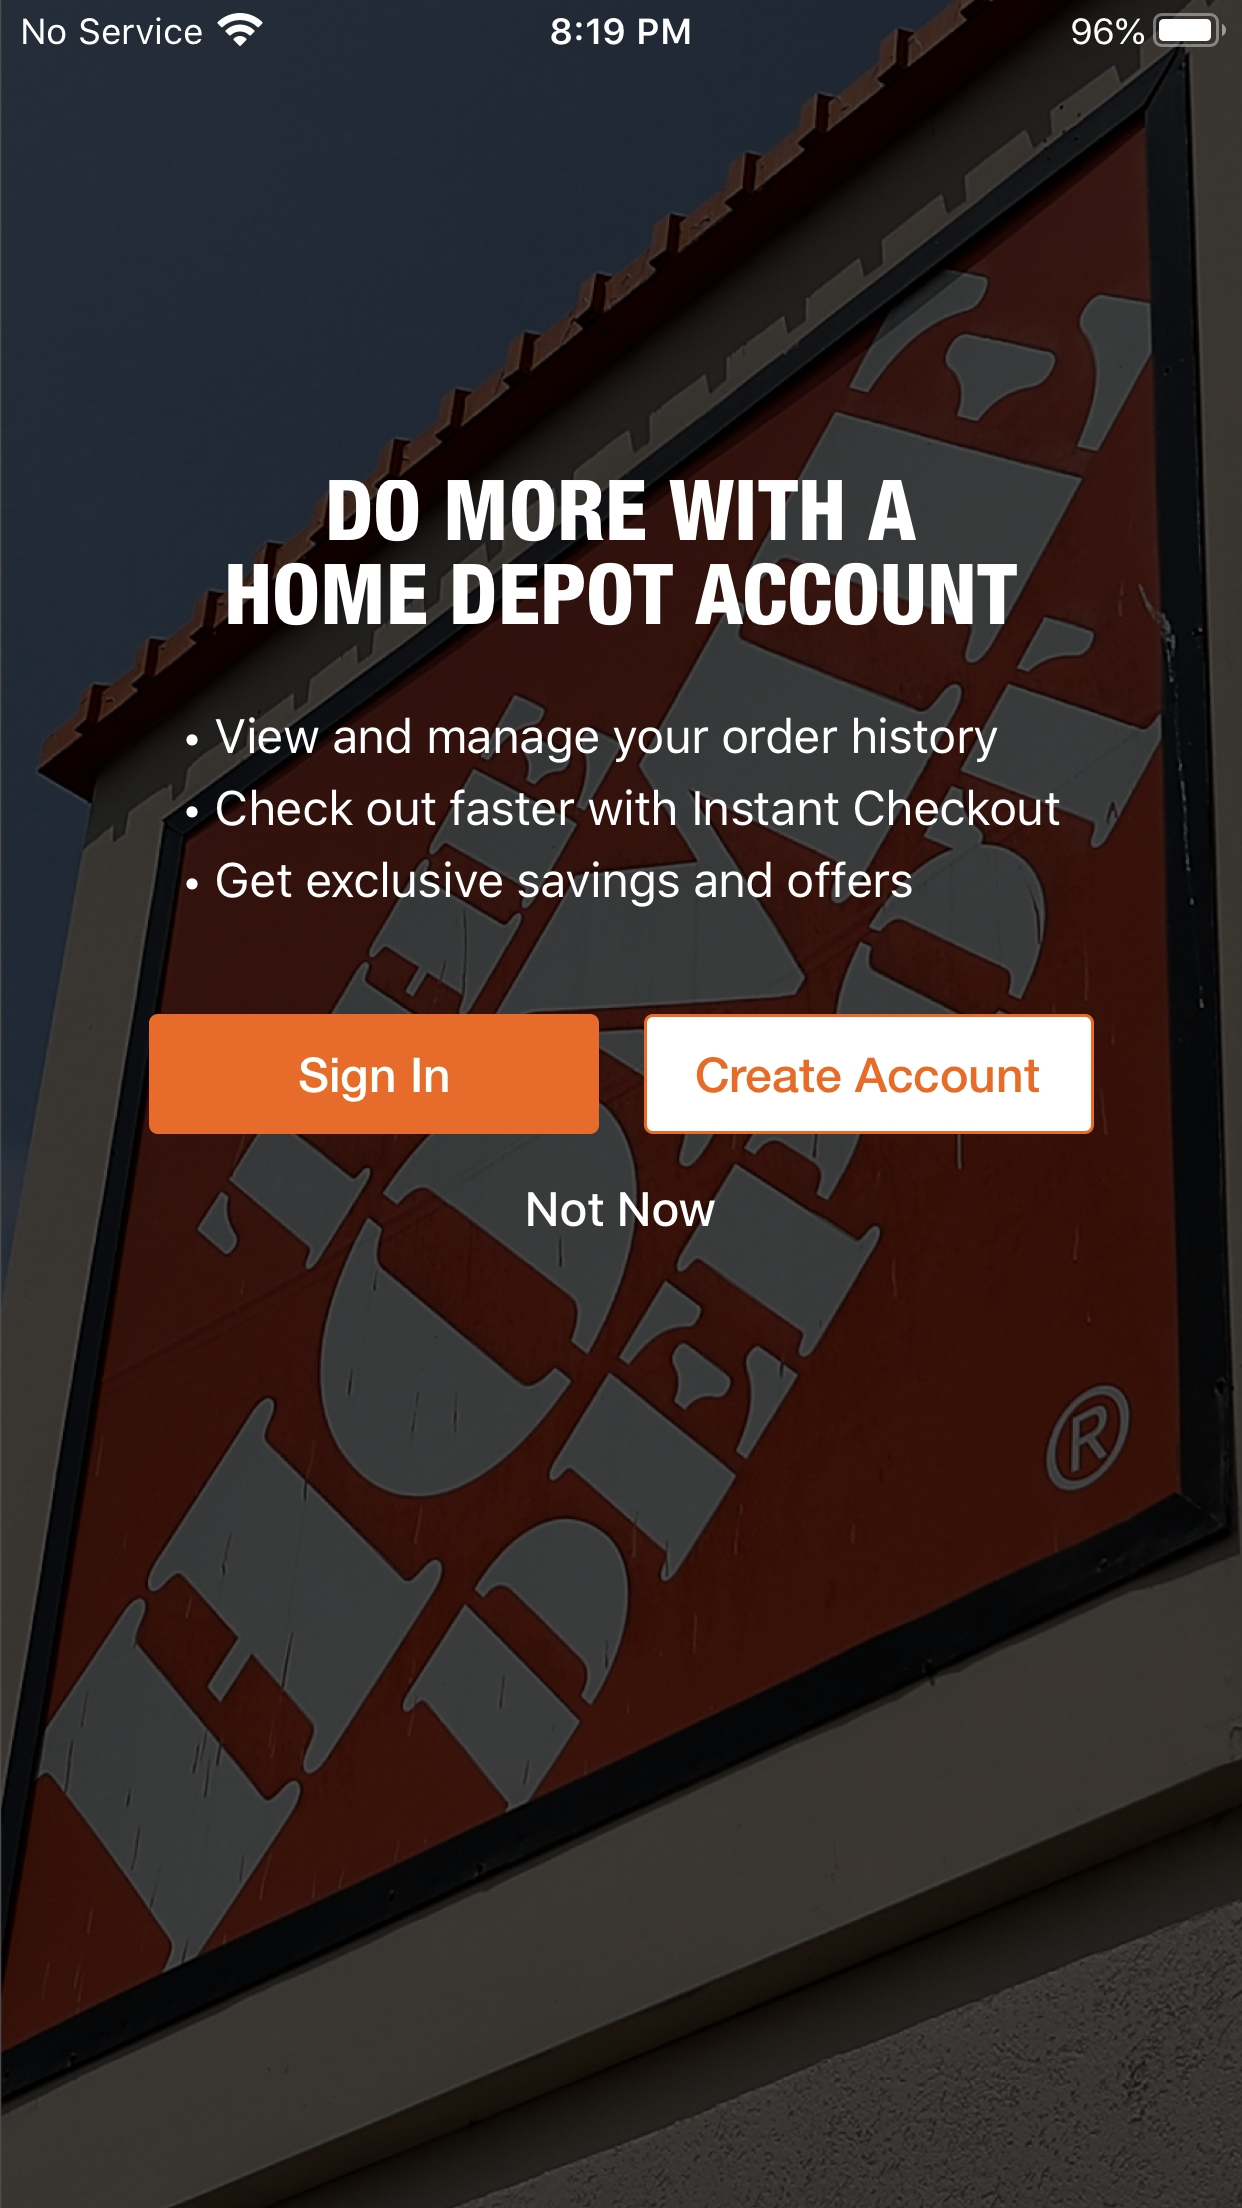BackgroundImage: (2, 2, 1242, 2208)
Text: (227, 481, 1018, 626), (187, 717, 998, 763), (187, 789, 1059, 826), (187, 861, 911, 907), (528, 1192, 714, 1227)
TextButton: (149, 1015, 599, 1134), (645, 1015, 1093, 1134)
UpperTaskBar: (2, 2, 1242, 49)
